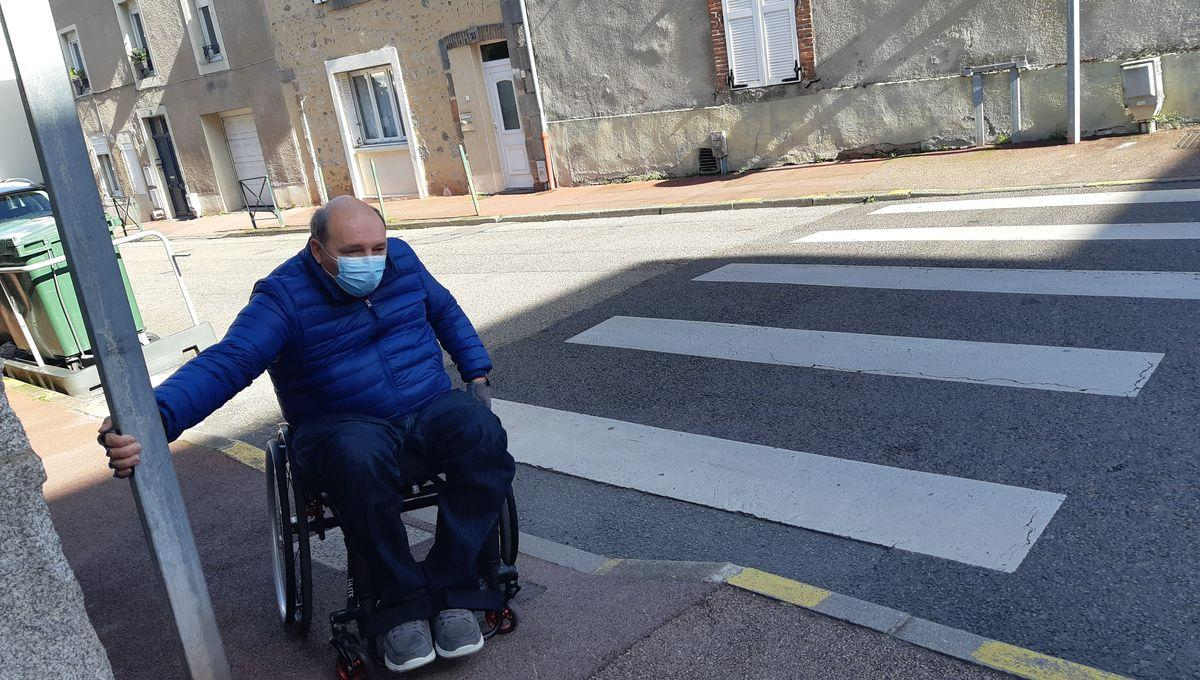wheelchair: (96, 197, 521, 680)
